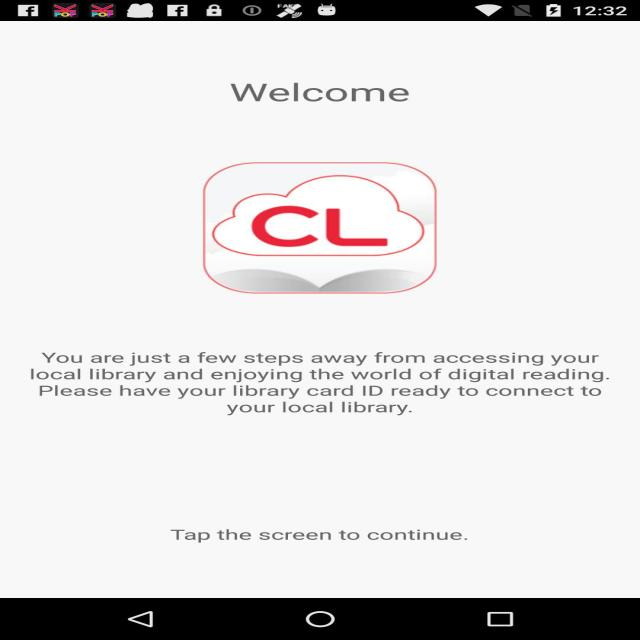icon: (103, 126, 561, 311)
text: (18, 322, 640, 447), (157, 68, 476, 120)
